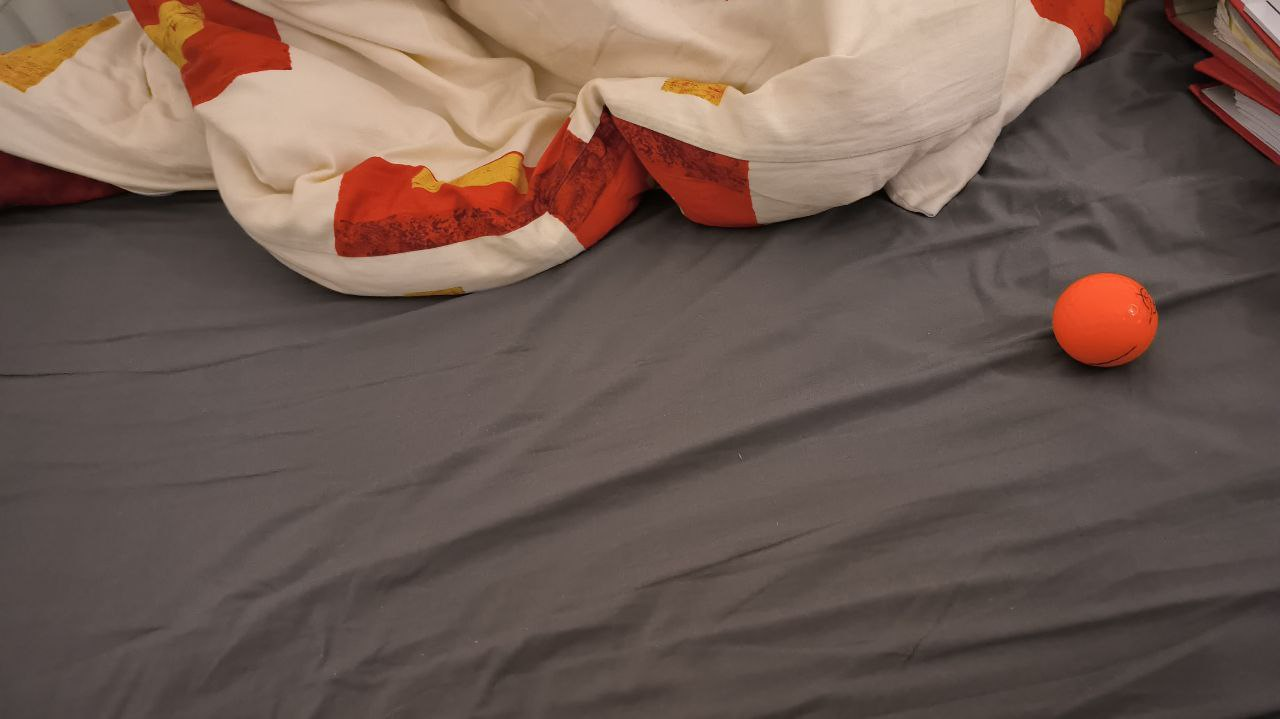orange_ball: (1053, 273, 1158, 368)
